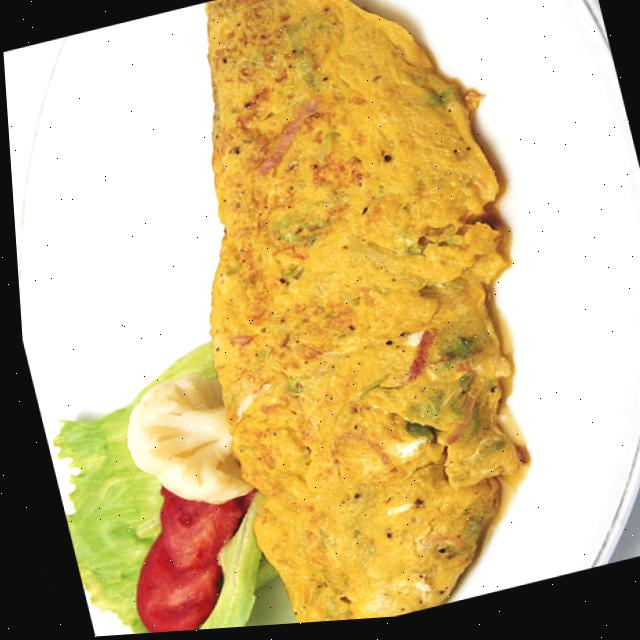鸡蛋料理: (111, 0, 571, 634)
